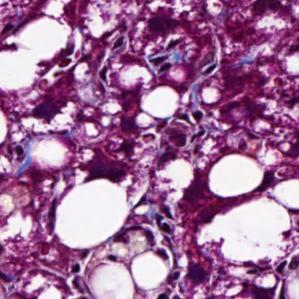inflammation: (136, 199, 189, 253), (146, 38, 187, 76)
